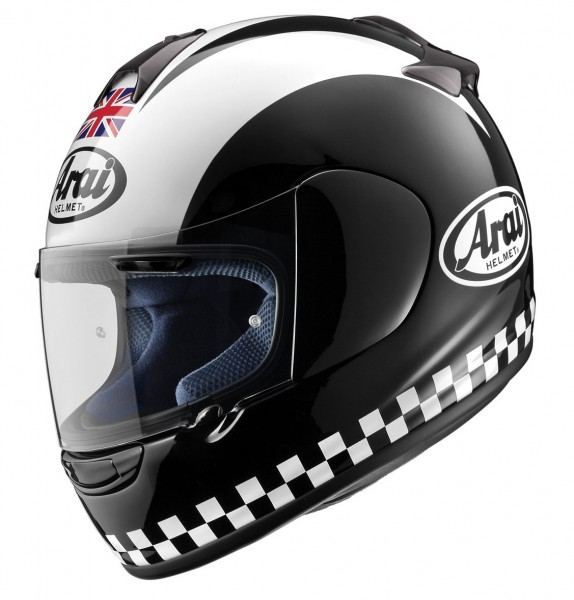helmet: (49, 44, 528, 469)
